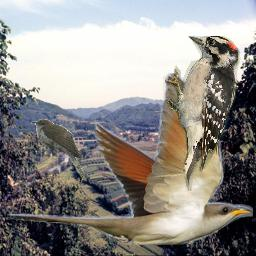Cuckoo: (6, 73, 253, 245), (31, 119, 87, 183)
Woodpecker: (165, 36, 241, 191)
